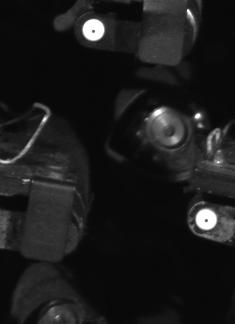fiber: (188, 201, 223, 238), (79, 15, 112, 45)
